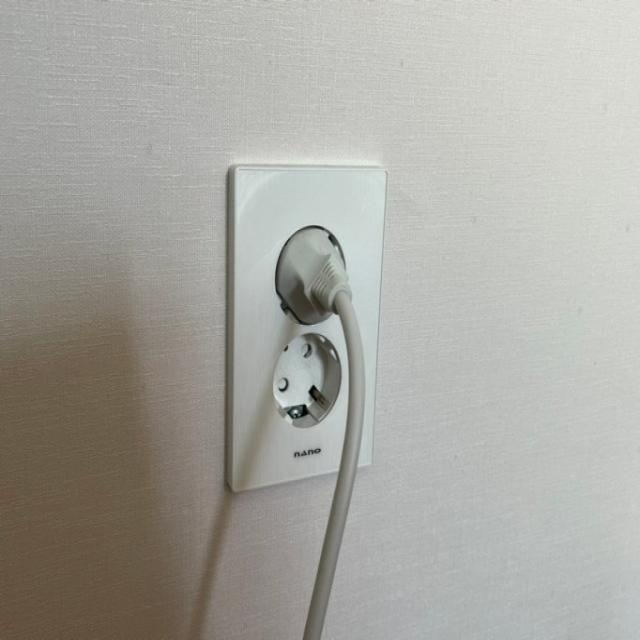typeb: (208, 146, 404, 536)
